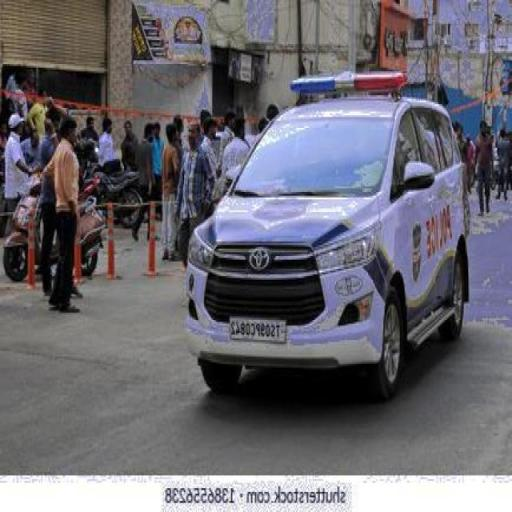Ambulance: (182, 70, 472, 404)
